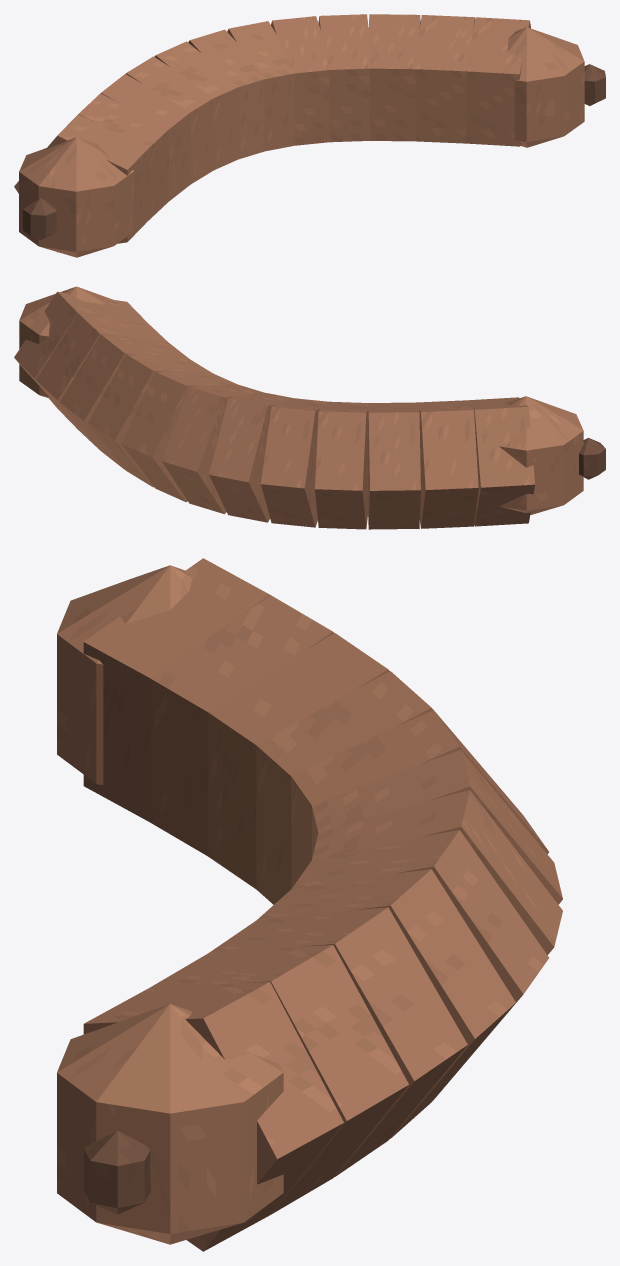
The model's file is sweet_sausage.glb.
3 views of the same model, one above another, from view 1: azimuth 30°, elevation 25°; view 2: azimuth 150°, elevation 25°; view 3: azimuth 270°, elevation 25° (orthographic). The views are drawn at different scales.
Parts seen in each view (by area): view 1: block_rounded end (×2), block_curved casing 10, block_curved casing 11, block_curved casing 9, block_curved casing 8, block_curved casing 7, block_curved casing 6, block_curved casing 5, block_curved casing 4, block_curved casing 3, block_curved casing 2, block_curved casing 1 (+2 smaller); view 2: block_rounded end (×2), block_curved casing 1, block_curved casing 2, block_curved casing 3, block_curved casing 4, block_curved casing 5, block_curved casing 0, block_curved casing 6, block_curved casing 7, block_curved casing 8, block_curved casing 9, block_curved casing 10 (+2 smaller); view 3: block_rounded end (×2), block_curved casing 10, block_curved casing 1, block_curved casing 9, block_curved casing 11, block_curved casing 0, block_curved casing 2, block_curved casing 8, block_curved casing 3, block_curved casing 7, block_curved casing 6, block_curved casing 4 (+2 smaller).
Part boxes in pixels (x1,y1,x2,y2): block_rounded end (×2): [19, 27, 584, 257]; block_curved casing 10: [416, 15, 474, 143]; block_curved casing 11: [466, 17, 530, 146]; block_curved casing 9: [368, 14, 420, 141]; block_curved casing 8: [318, 14, 369, 142]; block_curved casing 7: [271, 16, 329, 145]; block_curved casing 6: [227, 21, 294, 151]; block_curved casing 5: [188, 29, 264, 159]; block_curved casing 4: [154, 41, 238, 170]; block_curved casing 3: [126, 56, 213, 184]; block_curved casing 2: [100, 74, 190, 201]; block_curved casing 1: [78, 93, 168, 220]; block_rounded end (×2): [19, 286, 583, 514]; block_curved casing 1: [415, 400, 478, 528]; block_curved casing 2: [368, 402, 420, 529]; block_curved casing 3: [315, 401, 369, 529]; block_curved casing 4: [261, 398, 328, 527]; block_curved casing 5: [209, 392, 293, 522]; block_curved casing 0: [466, 397, 534, 526]; block_curved casing 6: [162, 384, 263, 514]; block_curved casing 7: [121, 372, 236, 502]; block_curved casing 8: [87, 354, 212, 487]; block_curved casing 9: [60, 334, 189, 469]; block_curved casing 10: [36, 313, 167, 449]; block_rounded end (×2): [57, 565, 283, 1244]; block_curved casing 10: [149, 945, 408, 1214]; block_curved casing 1: [149, 595, 333, 856]; block_curved casing 9: [208, 907, 467, 1176]; block_curved casing 11: [83, 982, 343, 1251]; block_curved casing 0: [83, 558, 270, 821]; block_curved casing 2: [208, 633, 389, 888]; block_curved casing 8: [257, 869, 515, 1138]; block_curved casing 3: [256, 671, 433, 904]; block_curved casing 7: [291, 830, 548, 1099]; block_curved casing 6: [312, 790, 562, 955]; block_curved casing 4: [291, 710, 548, 888].
Size of the model in its own units: 0.1197 by 0.0239 by 0.0455.
Materials: 1 (1 with a texture image).
